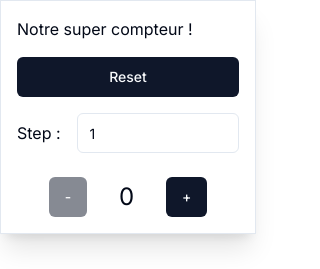
userEvent › render without setup
Click the button "+". click: (187,197)
box: [166,177,207,217]
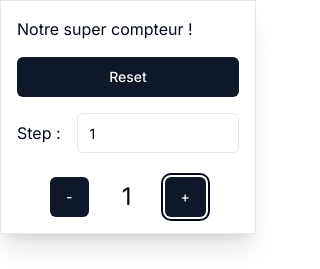
Now the text "1" is shown, box [122,181,132,213]
